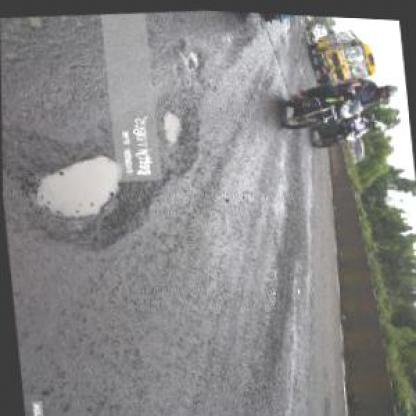pothole: (1, 115, 157, 264), (153, 92, 208, 182), (172, 42, 207, 79)
